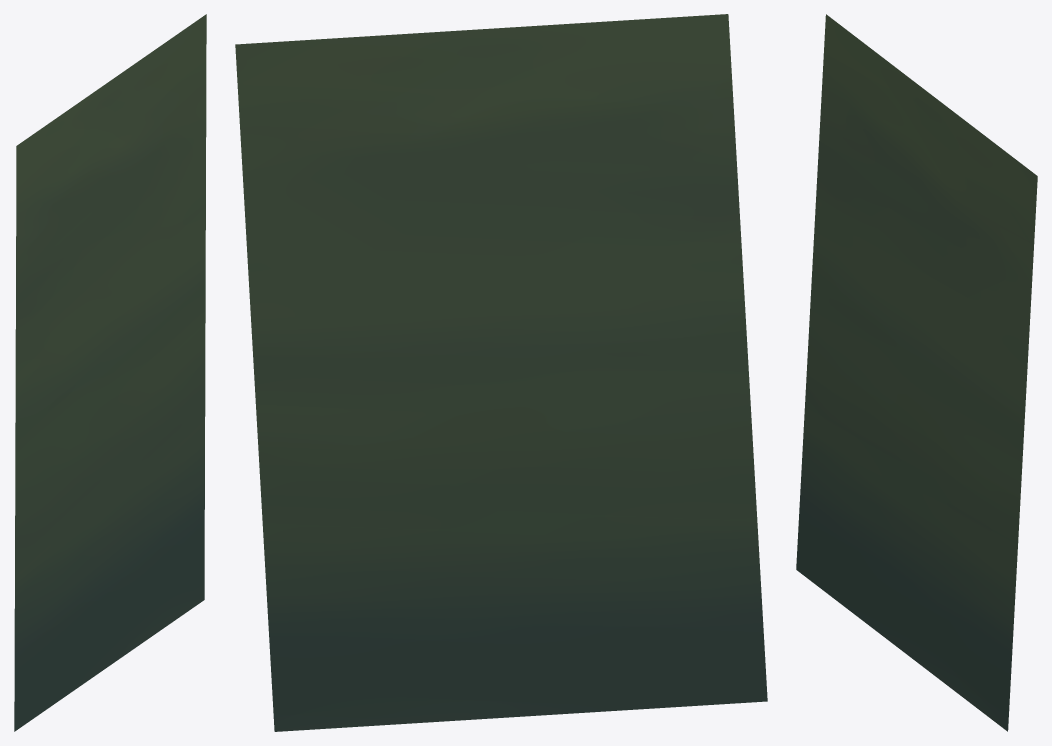
File: pplane108_lambert6_0_lev2.glb
The picture shows the model from 3 angles, left to right: view 1: azimuth 30°, elevation 25°; view 2: azimuth 150°, elevation 25°; view 3: azimuth 270°, elevation 25°; orthographic projection. The views are drawn at different scales.
Parts seen in each view (by area): view 1: pplane108_lambert6_0_lev2; view 2: pplane108_lambert6_0_lev2; view 3: pplane108_lambert6_0_lev2.
Boxes of the visible parts, box(x1,y1,x2,y2) form: pplane108_lambert6_0_lev2: box(14, 14, 206, 731); pplane108_lambert6_0_lev2: box(235, 14, 767, 731); pplane108_lambert6_0_lev2: box(796, 14, 1037, 731).
Bounding box in the file's own units: 0.0901 × 0.1614 × 0.0606.
Materials: 1 (1 with a texture image).
